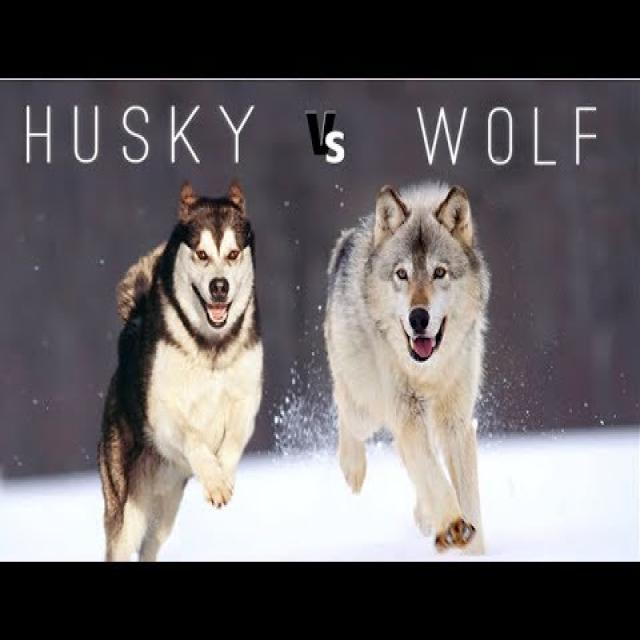dog: (339, 176, 500, 419), (134, 155, 296, 392)
